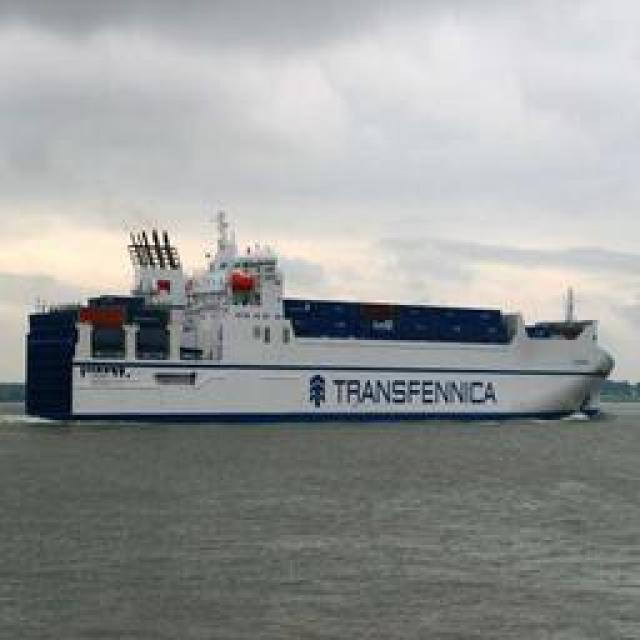Ship: (26, 236, 619, 421)
